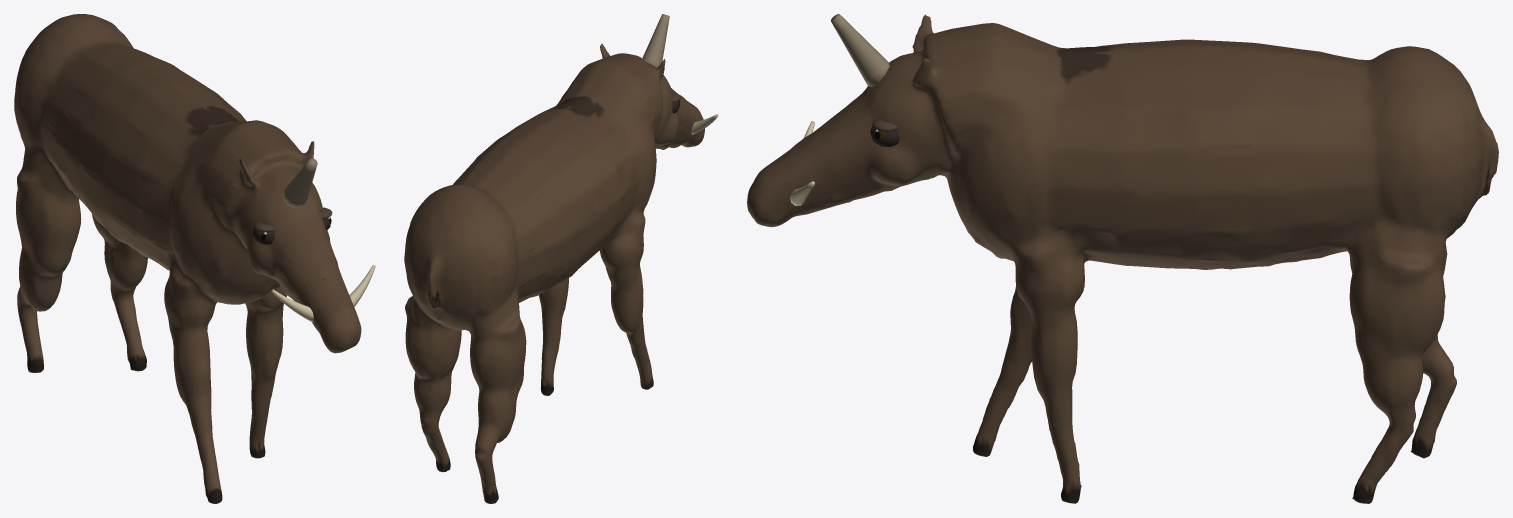
File: KubanochoerusGigas.fbx
3 renders of one model, left to right at view 1: azimuth 30°, elevation 25°; view 2: azimuth 150°, elevation 25°; view 3: azimuth 270°, elevation 25°, orthographic. The views are drawn at different scales.
Parts seen in each view (by area): view 1: KubanochoerusGigas; view 2: KubanochoerusGigas; view 3: KubanochoerusGigas.
Part boxes in pixels (x1=…): KubanochoerusGigas: x1=14, y1=14, x2=375, y2=503; KubanochoerusGigas: x1=404, y1=14, x2=718, y2=503; KubanochoerusGigas: x1=747, y1=14, x2=1498, y2=503.
Size of the model in its own units: 0.4571 by 1.25 by 1.84.
